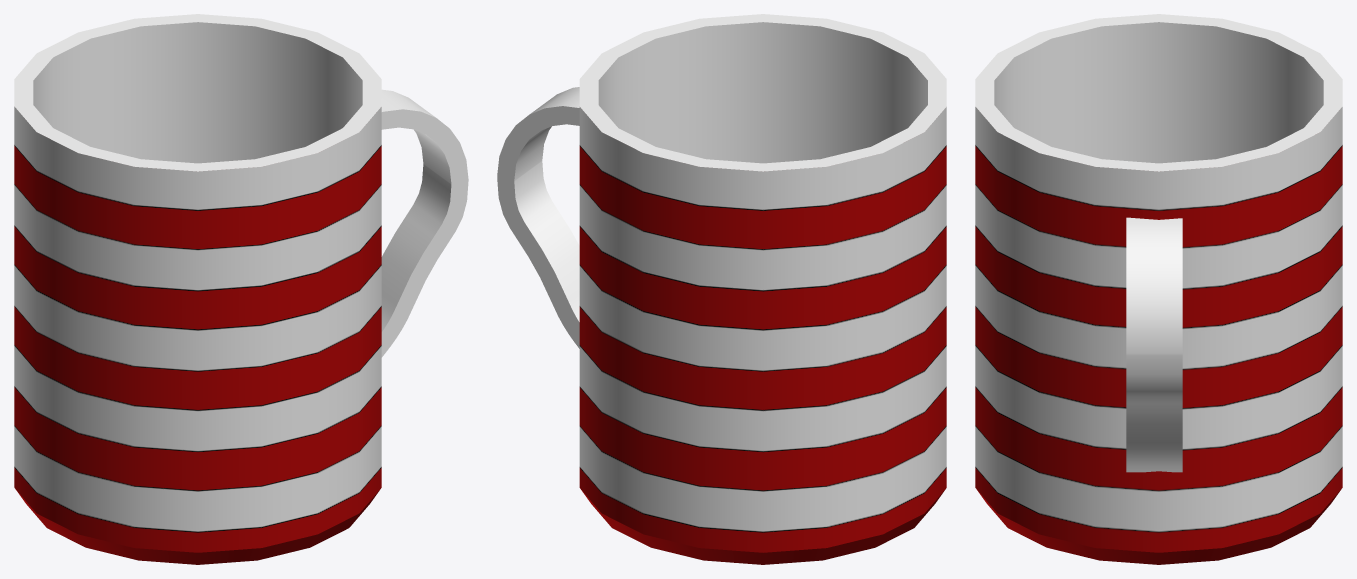
The model's file is Cup 1.FBX.
The picture shows the model from 3 angles, left to right: view 1: azimuth 30°, elevation 25°; view 2: azimuth 150°, elevation 25°; view 3: azimuth 270°, elevation 25°; orthographic projection.
Visible parts, largest first — view 1: cup 1; view 2: cup 1; view 3: cup 1.
Part boxes in pixels (x1,y1,x2,y2): cup 1: (14, 14, 468, 564); cup 1: (497, 14, 946, 564); cup 1: (975, 14, 1342, 564).
Size of the model in its own units: 10.05 by 9.21 by 7.69.
Materials: 1 (1 with a texture image).
